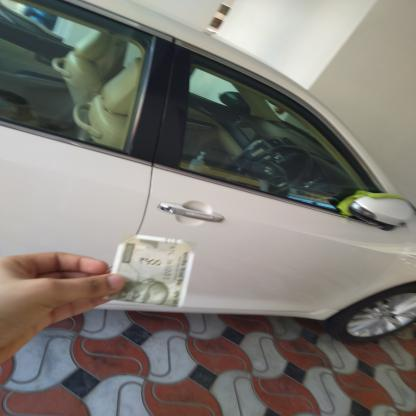New500Front: (107, 238, 189, 306)
